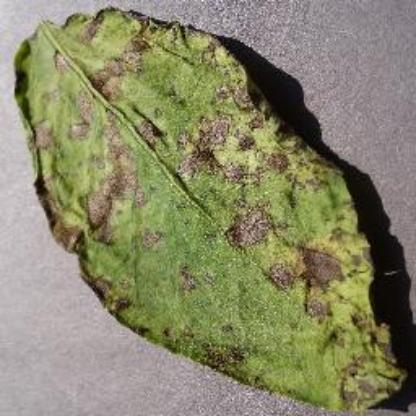Early-Blight: (6, 4, 416, 412)
